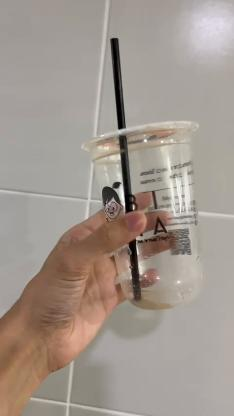Plastic Cup: (80, 117, 204, 310)
